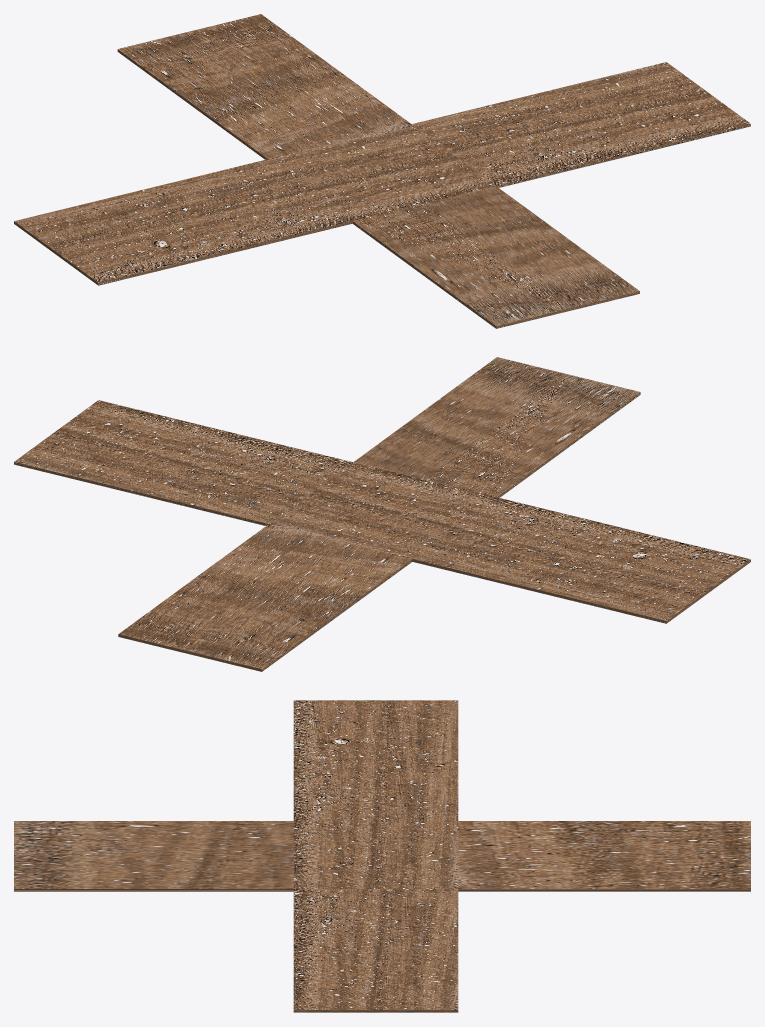
File: RouteCroix.dae
3 renders of one model, top to bottom at view 1: azimuth 30°, elevation 25°; view 2: azimuth 150°, elevation 25°; view 3: azimuth 270°, elevation 25°, orthographic. The views are drawn at different scales.
Parts seen in each view (by area): view 1: Cube; view 2: Cube; view 3: Cube.
Part boxes in pixels (left/top/right/bottom): Cube: left=14, top=14, right=750, bottom=328; Cube: left=14, top=357, right=750, bottom=671; Cube: left=14, top=700, right=750, bottom=1012.
Bounding box in the file's own units: 5.99 × 6.02 × 0.0239.
1 material, 1 textured.
